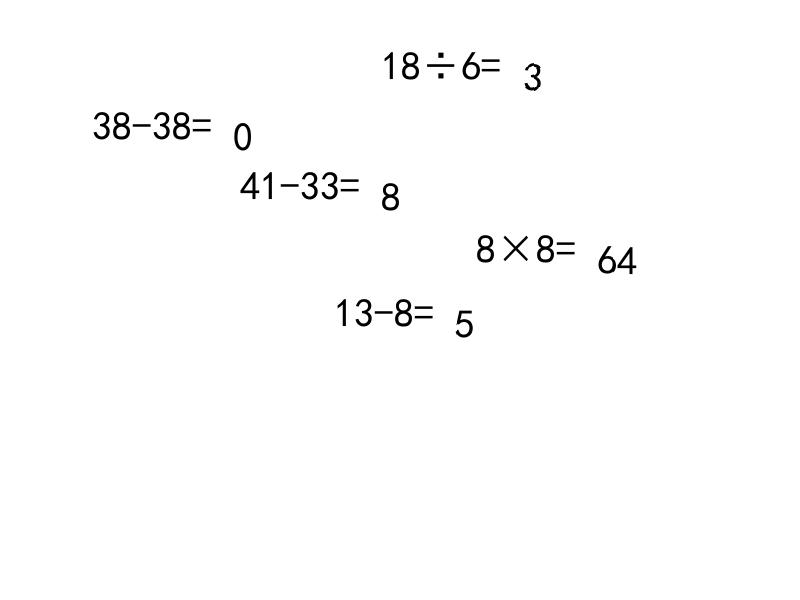-: (132, 105, 152, 134), (280, 165, 300, 194), (374, 292, 394, 321)
0: (222, 105, 242, 134)
1: (260, 165, 280, 194), (334, 292, 354, 321), (381, 45, 401, 73)
3: (92, 105, 112, 134), (152, 105, 172, 134), (300, 165, 320, 194), (320, 165, 340, 194), (354, 292, 374, 321), (511, 45, 531, 73)
4: (240, 165, 260, 194), (606, 228, 626, 256)
5: (444, 292, 464, 321)
6: (461, 45, 481, 73), (586, 228, 606, 256)
8: (112, 105, 132, 134), (172, 105, 192, 134), (370, 165, 390, 194), (394, 292, 414, 321), (401, 45, 421, 73), (476, 228, 496, 256), (536, 228, 556, 256)
=: (192, 105, 212, 134), (340, 165, 360, 194), (414, 292, 434, 321), (481, 45, 501, 73), (556, 228, 576, 256)
×: (496, 228, 536, 256)
÷: (421, 45, 461, 73)
